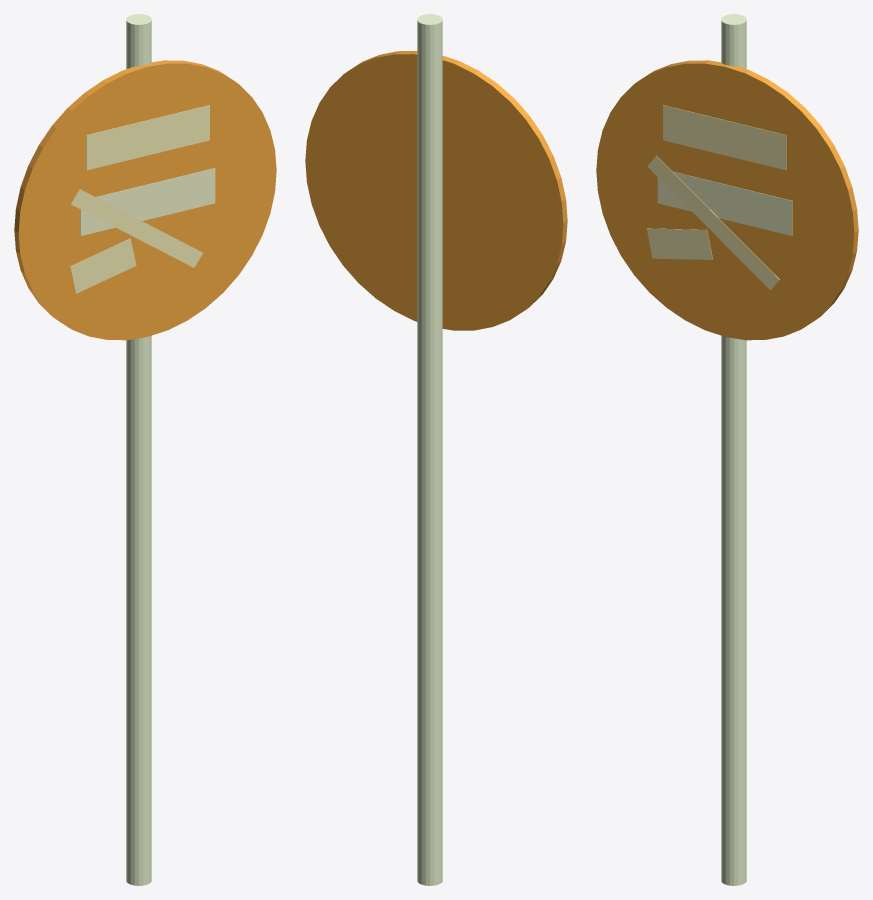
The model's file is sign_no_entry_weathered_heavy.glb.
3 views of the same model, side by side, from view 1: azimuth 30°, elevation 25°; view 2: azimuth 150°, elevation 25°; view 3: azimuth 330°, elevation 25° (orthographic).
Visible parts, largest first — view 1: plate_base_00, pole, layer_2_00, layer_1_00, layer_2_02, layer_2_01; view 2: plate_base_00, pole; view 3: plate_base_00, pole, layer_2_00, layer_1_00, layer_2_02, layer_2_01.
Part boxes in pixels (left/top/right/bottom): plate_base_00: left=14, top=60, right=276, bottom=340; pole: left=126, top=14, right=151, bottom=885; layer_2_00: left=86, top=105, right=209, bottom=170; layer_1_00: left=80, top=168, right=215, bottom=235; layer_2_02: left=71, top=189, right=202, bottom=267; layer_2_01: left=70, top=238, right=136, bottom=293; plate_base_00: left=305, top=51, right=567, bottom=330; pole: left=417, top=14, right=442, bottom=885; plate_base_00: left=596, top=60, right=858, bottom=340; pole: left=721, top=14, right=746, bottom=885; layer_2_00: left=663, top=105, right=786, bottom=170; layer_1_00: left=657, top=171, right=792, bottom=235; layer_2_02: left=647, top=156, right=779, bottom=290; layer_2_01: left=646, top=228, right=712, bottom=259.
Size of the model in its own units: 0.69 by 2.2 by 0.0725.
